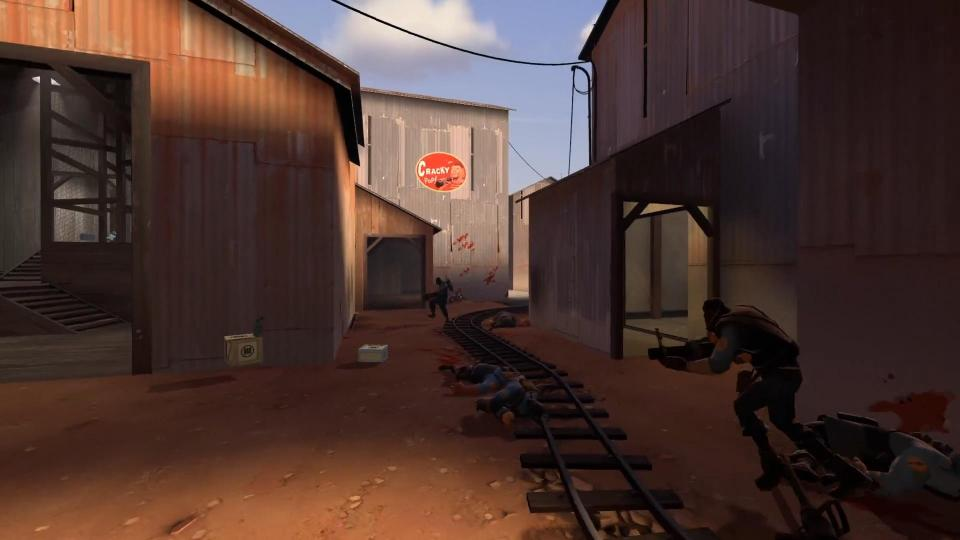Enemy: (647, 296, 875, 499), (423, 275, 454, 323)
